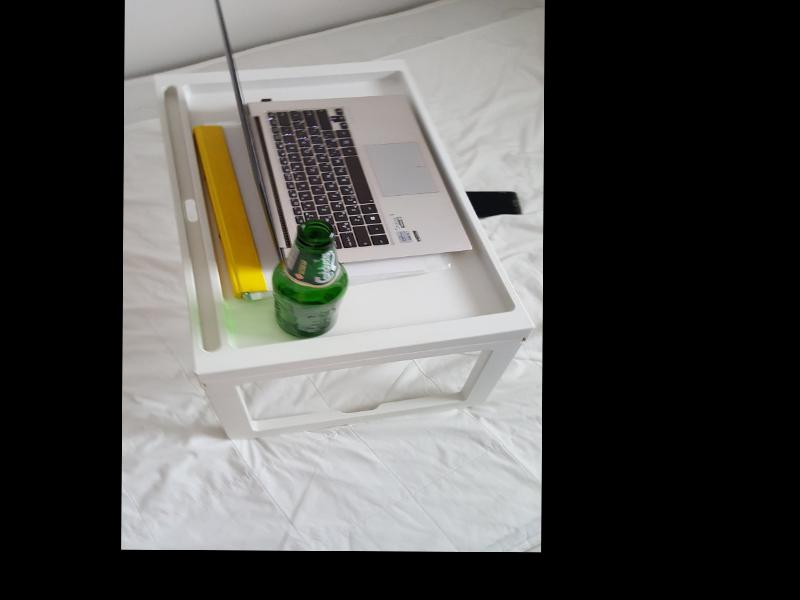Beer: (272, 220, 346, 338)
